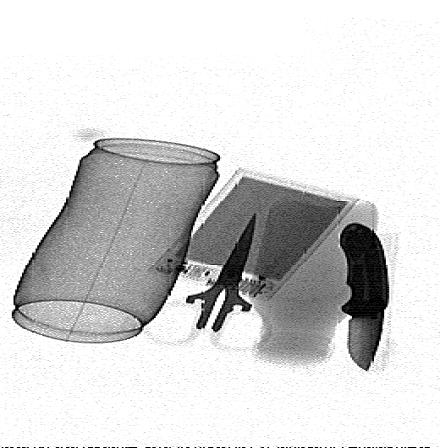Knife: (337, 221, 390, 374)
Powerbank: (143, 166, 365, 301)
Scissors: (133, 211, 279, 354)
